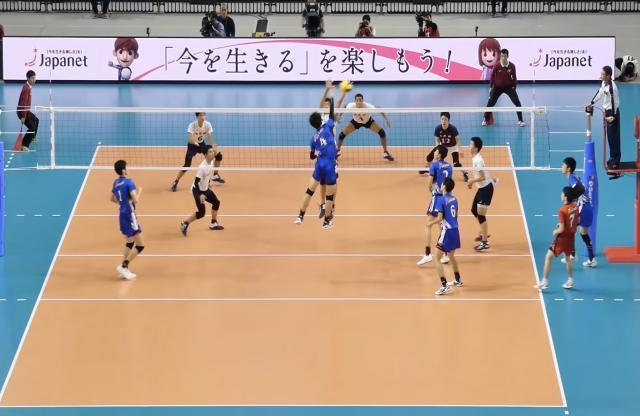spike: (294, 76, 354, 235)
